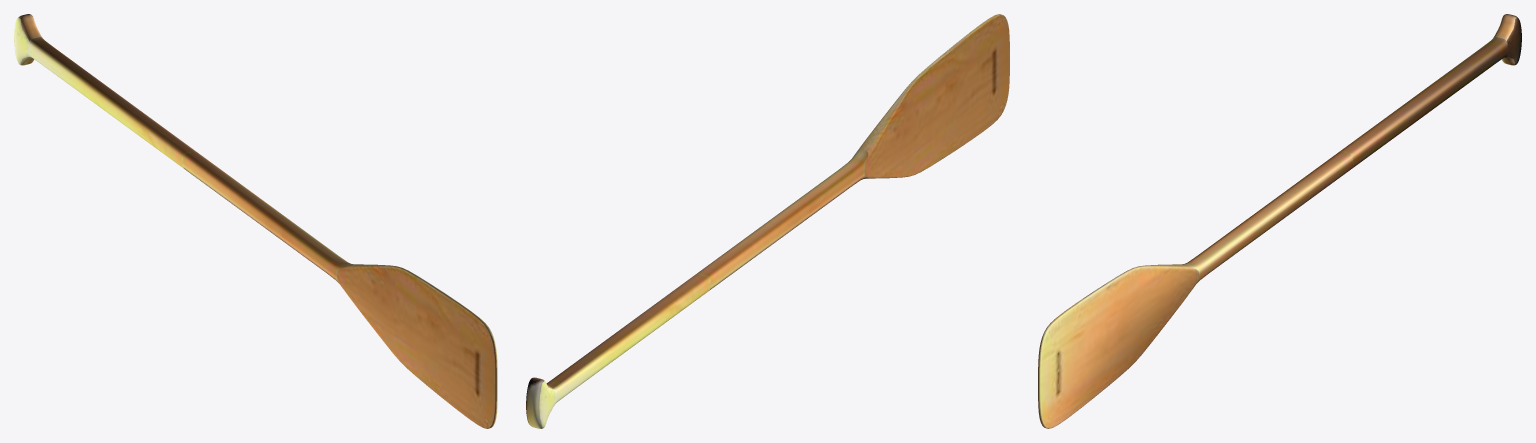
Rendered from paddle.obj.
The picture shows the model from 3 angles, left to right: view 1: azimuth 30°, elevation 25°; view 2: azimuth 150°, elevation 25°; view 3: azimuth 330°, elevation 25°; orthographic projection.
Parts seen in each view (by area): view 1: paddle; view 2: paddle; view 3: paddle.
Boxes of the visible parts, x1,y1,x2,y2 form: paddle: (14, 14, 497, 428); paddle: (526, 14, 1009, 428); paddle: (1038, 14, 1521, 428).
Bounding box in the file's own units: 0.0262 × 0.1732 × 1.4.
1 material, 1 textured.
